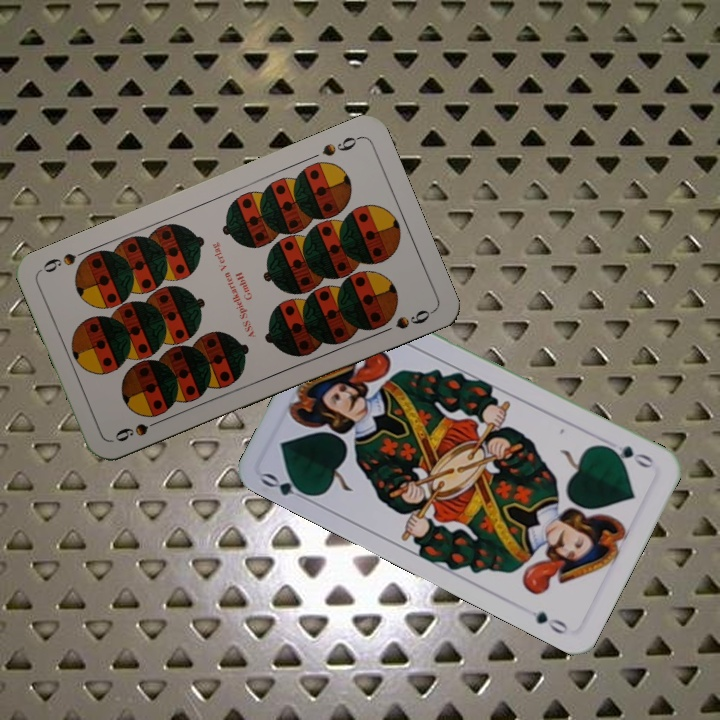GO: (257, 468, 316, 505), (601, 441, 656, 472)
S9: (110, 414, 167, 445), (318, 132, 363, 159)
